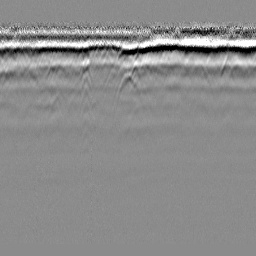cavity: (113, 69, 142, 110)
